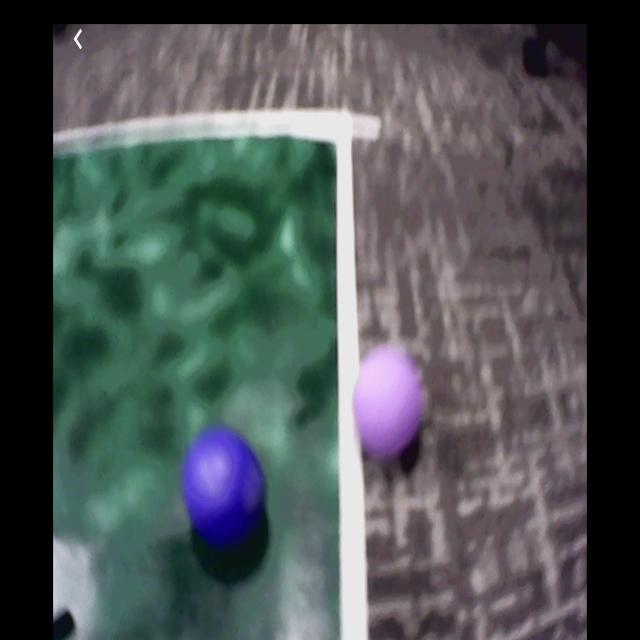ball: (183, 427, 268, 543), (354, 351, 424, 457)
